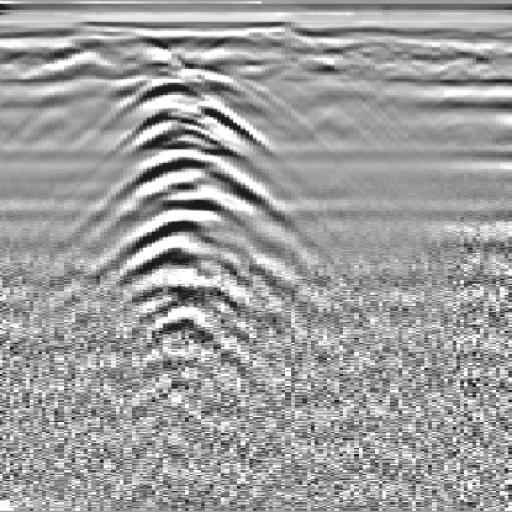metalic: (51, 35, 336, 400)
